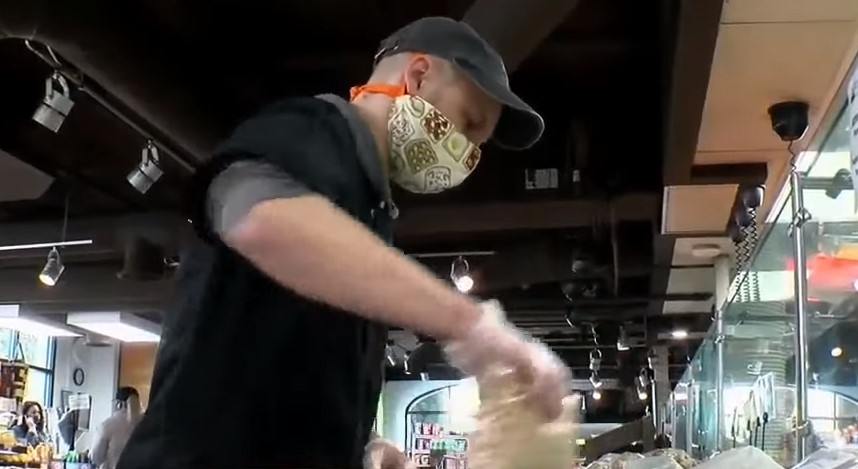face_with_mask: (373, 15, 546, 199)
